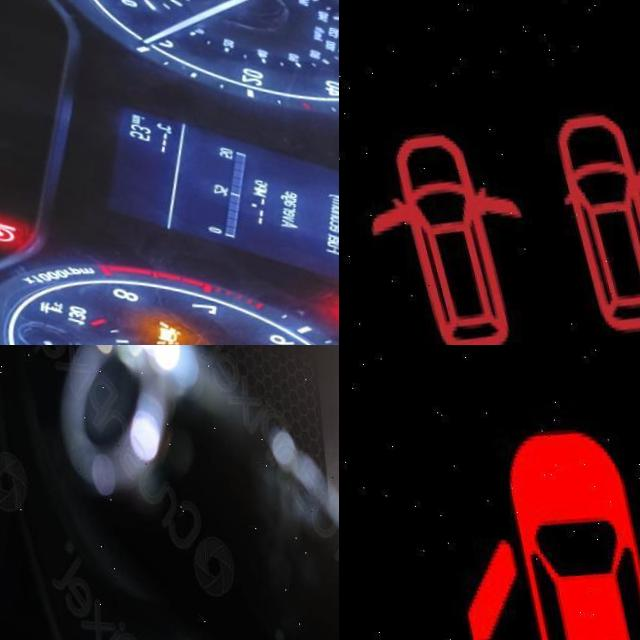Electronic Power Steering: (0, 223, 30, 259)
